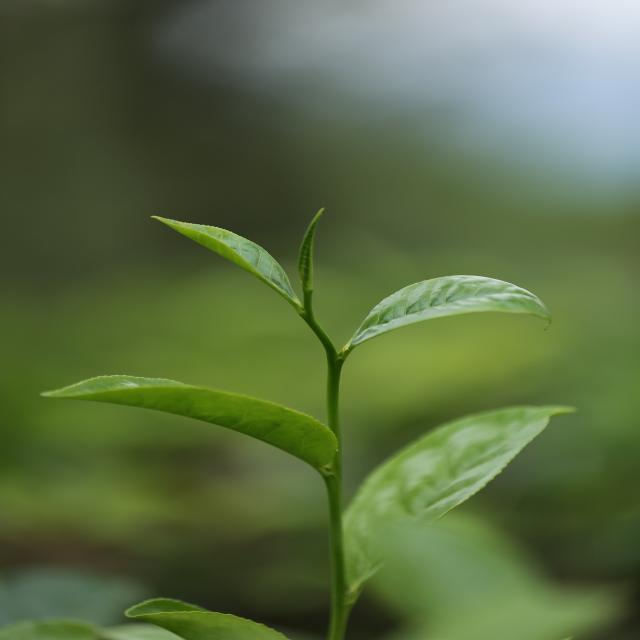Stem: (327, 366, 340, 414)
